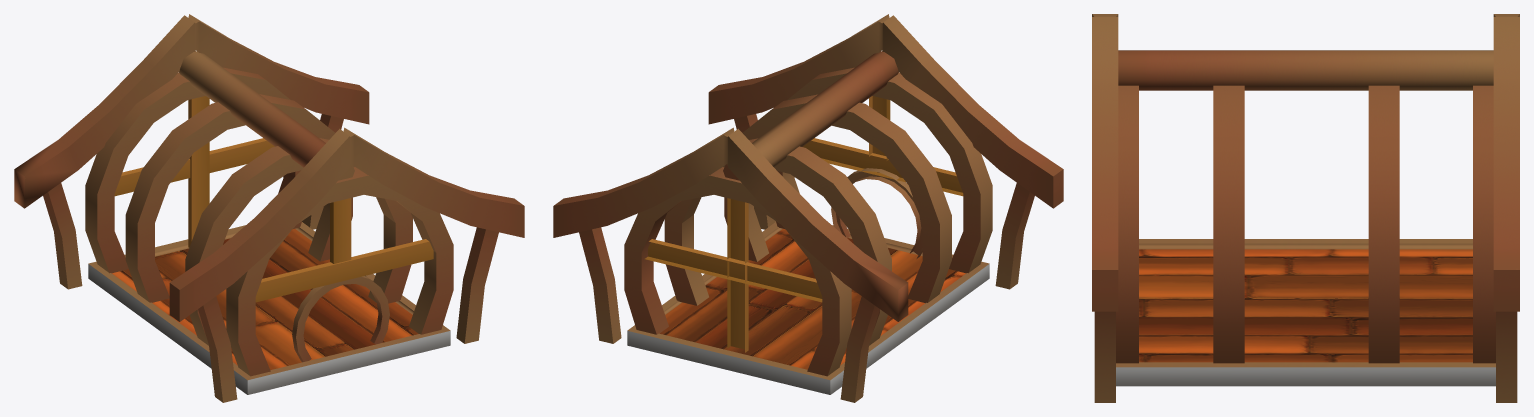
The model's file is VikingHouse_05_XL.fbx.
3 views of the same model, side by side, from view 1: azimuth 30°, elevation 25°; view 2: azimuth 150°, elevation 25°; view 3: azimuth 270°, elevation 25° (orthographic). The views are drawn at different scales.
Parts seen in each view (by area): view 1: VikingHouse_05_XL; view 2: VikingHouse_05_XL; view 3: VikingHouse_05_XL.
Boxes of the visible parts, left/top/right/bottom form: VikingHouse_05_XL: left=14, top=14, right=524, bottom=402; VikingHouse_05_XL: left=553, top=14, right=1063, bottom=402; VikingHouse_05_XL: left=1092, top=14, right=1519, bottom=402.
Bounding box in the file's own units: 486 × 319 × 403.
Materials: 1 (1 with a texture image).
